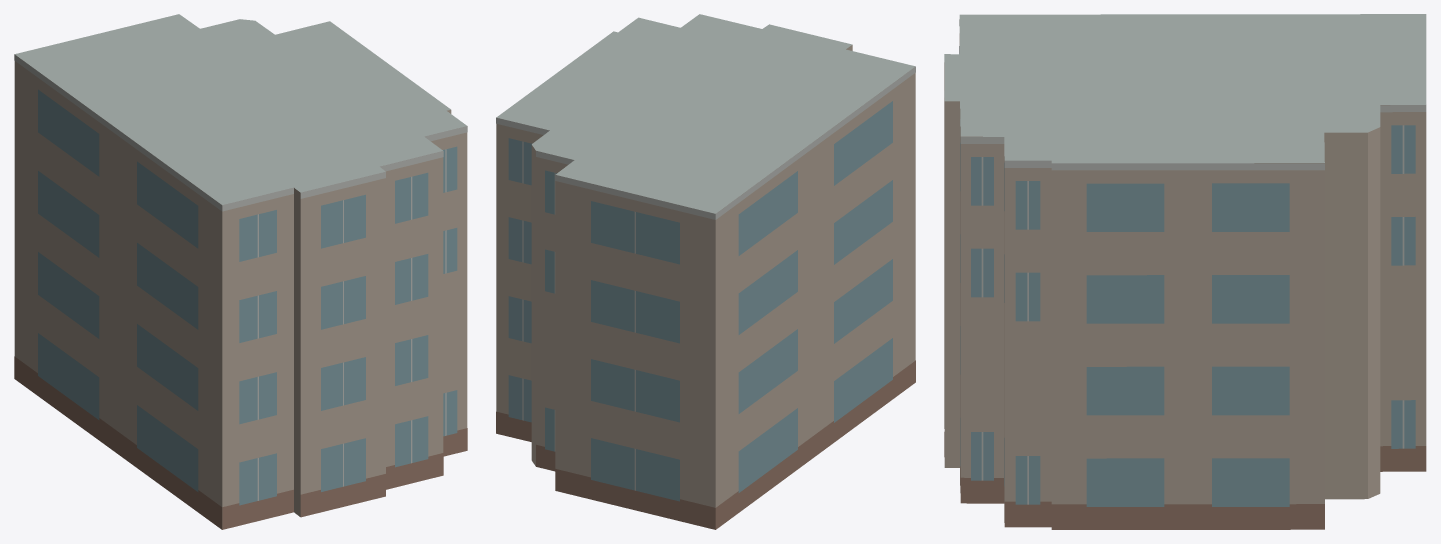
Rendered from survey-upis-32581495.glb.
3 renders of one model, left to right at view 1: azimuth 30°, elevation 25°; view 2: azimuth 150°, elevation 25°; view 3: azimuth 270°, elevation 25°, orthographic. The views are drawn at different scales.
Parts seen in each view (by area): view 1: survey-upis-32581495.tmp; view 2: survey-upis-32581495.tmp; view 3: survey-upis-32581495.tmp.
Boxes of the visible parts, bbox=[...] form: survey-upis-32581495.tmp: bbox=[14, 14, 467, 529]; survey-upis-32581495.tmp: bbox=[496, 14, 915, 529]; survey-upis-32581495.tmp: bbox=[944, 14, 1426, 529].
Size of the model in its own units: 10.96 by 12.54 by 14.96.
